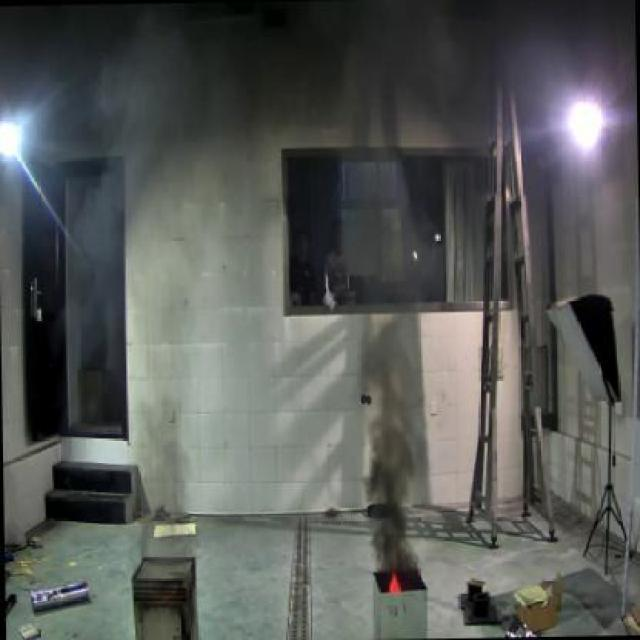fire: (362, 362, 433, 566), (130, 398, 204, 557)
smoke: (387, 572, 404, 598)
